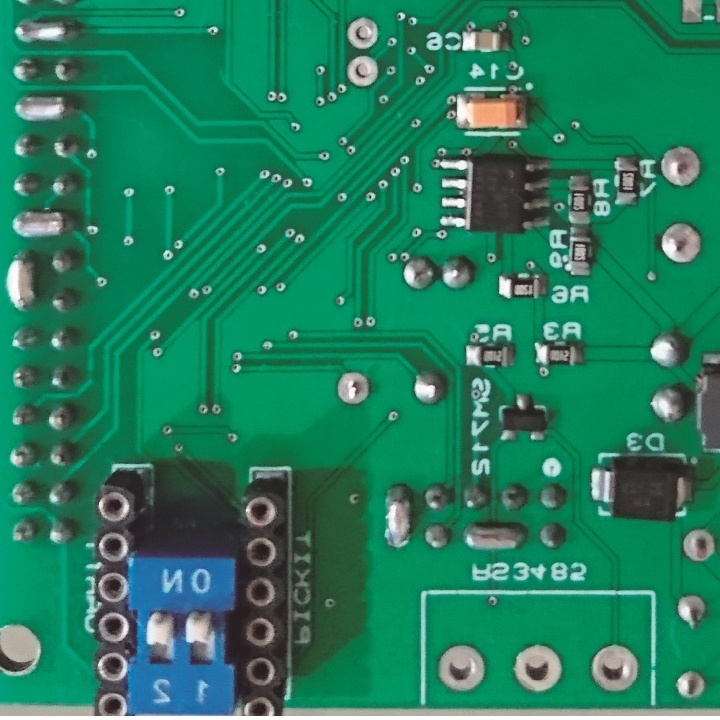F: (510, 642, 566, 695), (587, 642, 641, 695), (434, 642, 490, 693), (656, 144, 705, 190), (656, 221, 704, 265), (335, 369, 372, 410), (680, 526, 718, 565), (676, 591, 710, 632), (344, 15, 381, 51), (343, 54, 380, 90), (671, 667, 707, 701)
P: (459, 520, 530, 556), (381, 481, 416, 552), (4, 246, 38, 316), (12, 89, 75, 126), (12, 17, 81, 48), (8, 209, 77, 239)
